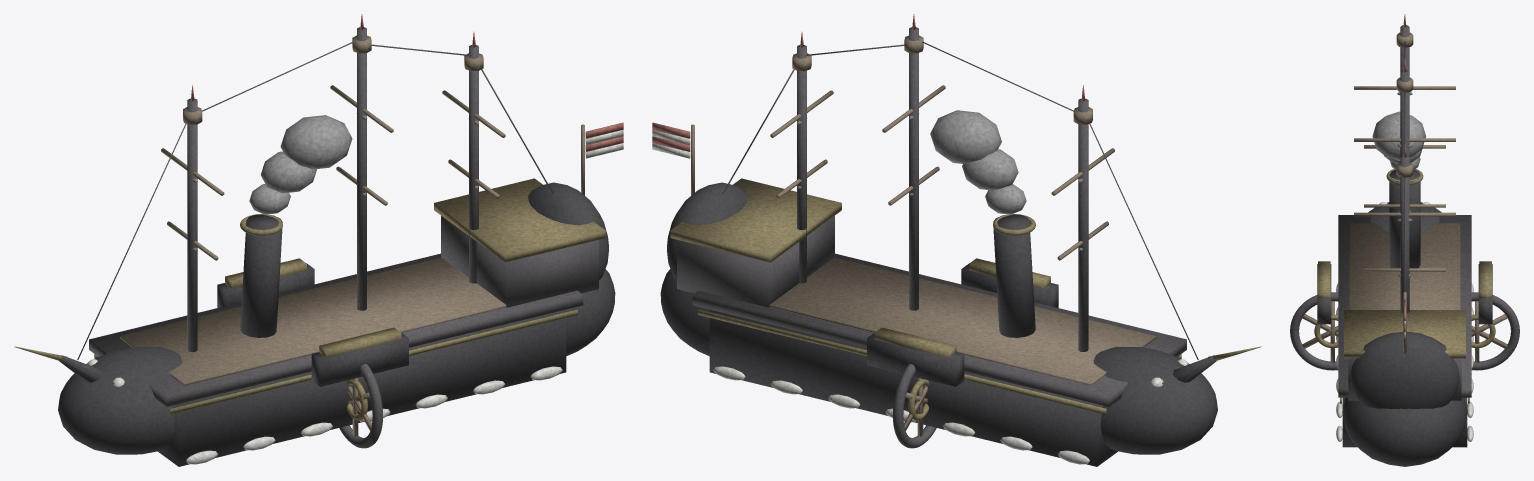
File: prop_kurofune.obj
3 renders of one model, left to right at view 1: azimuth 30°, elevation 25°; view 2: azimuth 150°, elevation 25°; view 3: azimuth 270°, elevation 25°, orthographic. The views are drawn at different scales.
Parts seen in each view (by area): view 1: Kurofune; view 2: Kurofune; view 3: Kurofune.
Boxes of the visible parts, left/top/right/bottom form: Kurofune: left=14, top=14, right=623, bottom=466; Kurofune: left=652, top=14, right=1261, bottom=466; Kurofune: left=1290, top=14, right=1519, bottom=466.
Bounding box in the file's own units: 21.2 × 12.91 × 8.12.
1 material, 1 textured.
